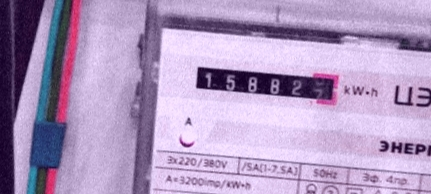1: (202, 70, 214, 89)
2: (289, 77, 302, 95)
5: (223, 72, 237, 90)
7: (311, 86, 324, 100)
8: (246, 74, 258, 92), (269, 77, 280, 94)
screen: (187, 54, 345, 110)
